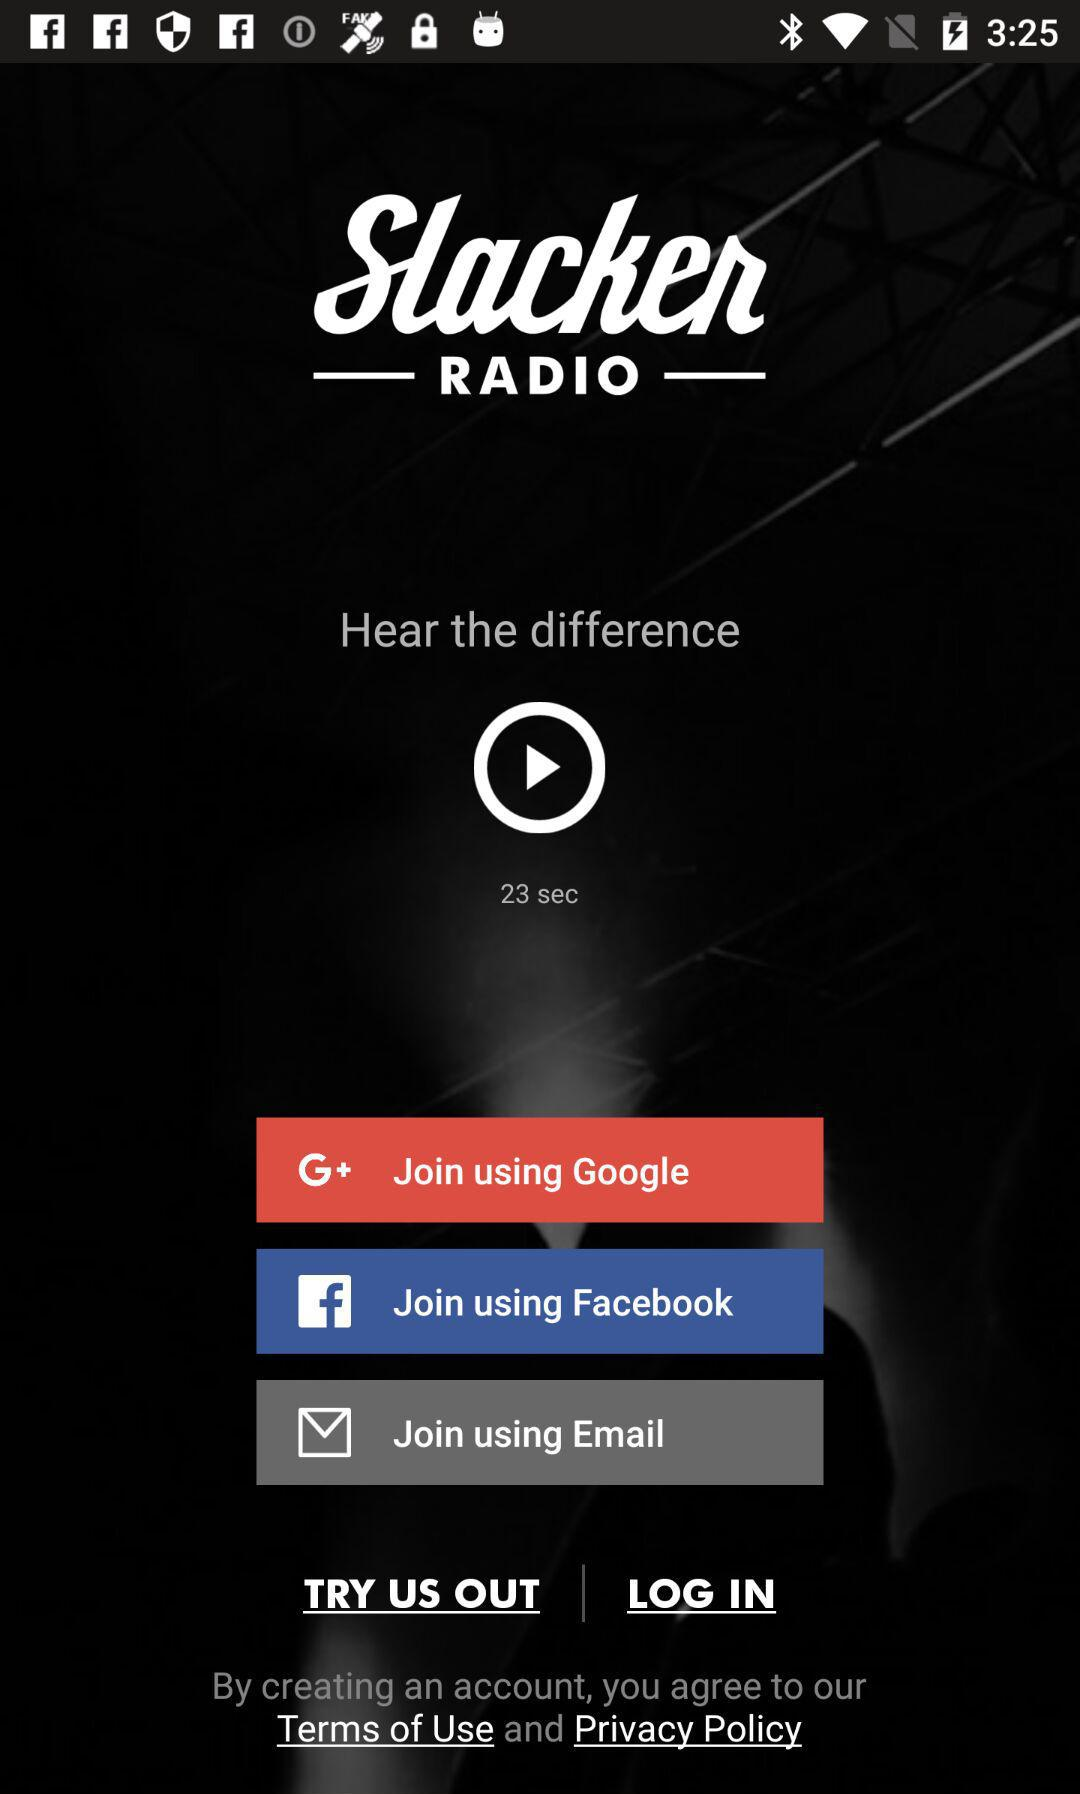BackgroundImage: (1, 64, 1080, 1794)
Icon: (474, 702, 606, 835)
Image: (313, 193, 769, 399)
Text: (214, 1670, 867, 1750), (342, 609, 740, 648), (304, 1577, 541, 1615), (626, 1577, 776, 1615), (500, 883, 580, 905)
TextButton: (256, 1117, 825, 1224), (258, 1380, 824, 1486), (258, 1249, 825, 1354)
UpperTaskBar: (1, 1, 1080, 64)
